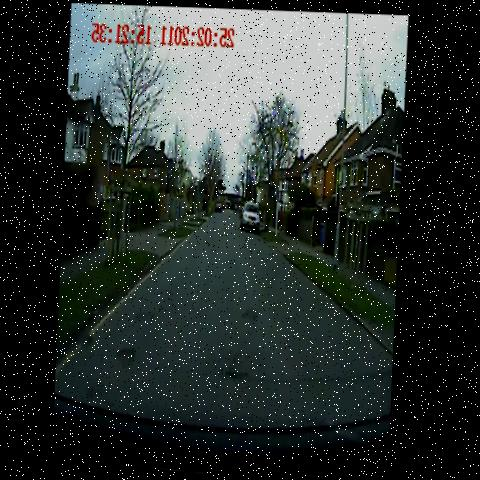pothole: (219, 335, 263, 391), (113, 338, 145, 375), (75, 325, 100, 363), (241, 290, 263, 332), (128, 303, 164, 328)
